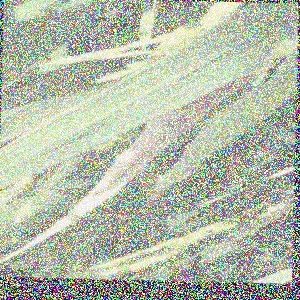Leaf_Blast: (86, 149, 139, 199)
